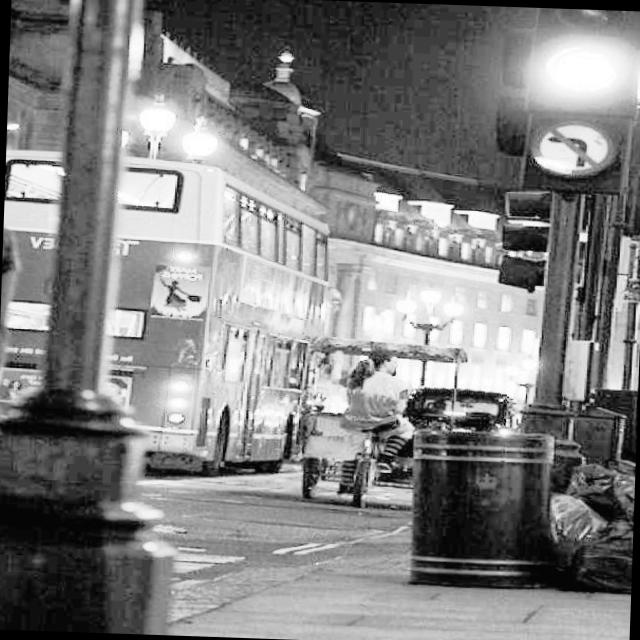Bus: (0, 178, 326, 472)
